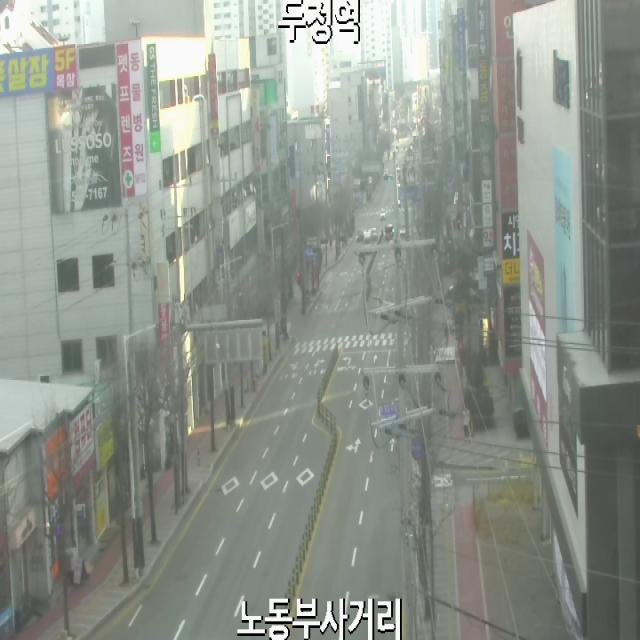Car: (384, 223, 393, 240), (356, 230, 364, 242), (380, 208, 386, 220), (372, 228, 378, 240)
